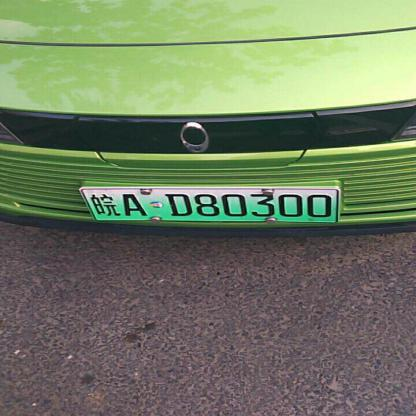lp: (80, 189, 337, 223)
